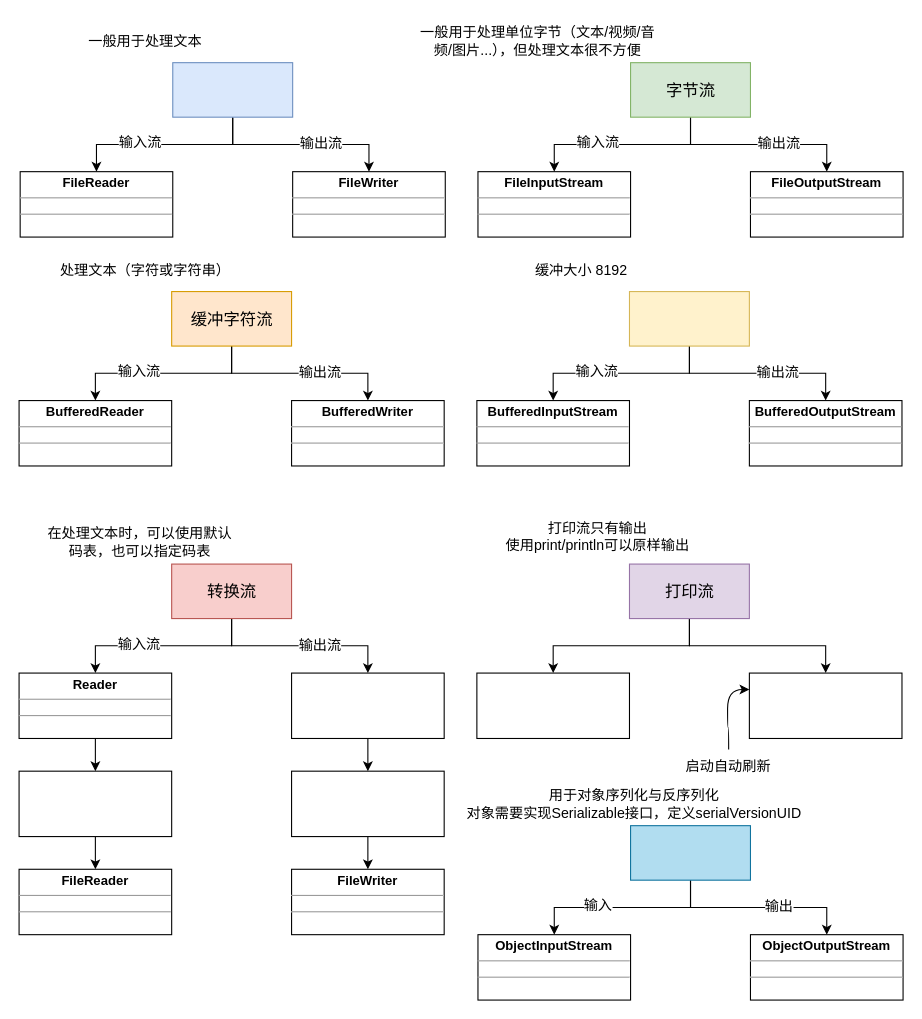
The diagram is 922 pixels wide and 1019 high, and some of its shapes have lost their labels. The shapes that lost their labels are listed below. From the top down, each one's centre as x and y in pixels, then its label:
At pixel 232 89: "字符流".
At pixel 688 318: "缓冲字节流".
At pixel 367 705: "Writer".
At pixel 552 705: "PrintStream".
At pixel 825 705: "PrintWriter".
At pixel 95 803: "InputStreamReader".
At pixel 367 803: "OutputStreamWriter".
At pixel 689 852: "序列化流".
